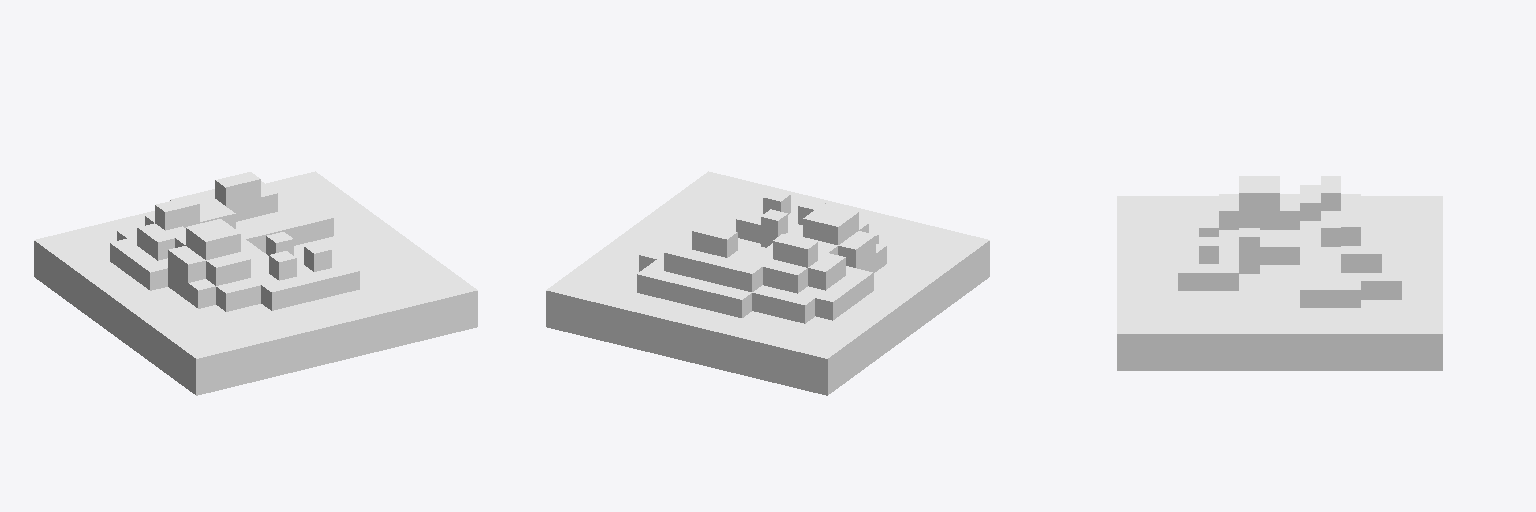
The model's file is iceberg3.obj.
3 views of the same model, side by side, from view 1: azimuth 30°, elevation 25°; view 2: azimuth 150°, elevation 25°; view 3: azimuth 270°, elevation 25° (orthographic).
Parts seen in each view (by area): view 1: object 1; view 2: object 1; view 3: object 1.
Part boxes in pixels (bbox=[...]): object 1: bbox=[34, 171, 477, 395]; object 1: bbox=[546, 171, 989, 395]; object 1: bbox=[1117, 176, 1442, 370].
Bounding box in the file's own units: 1.6 × 0.5 × 1.6.